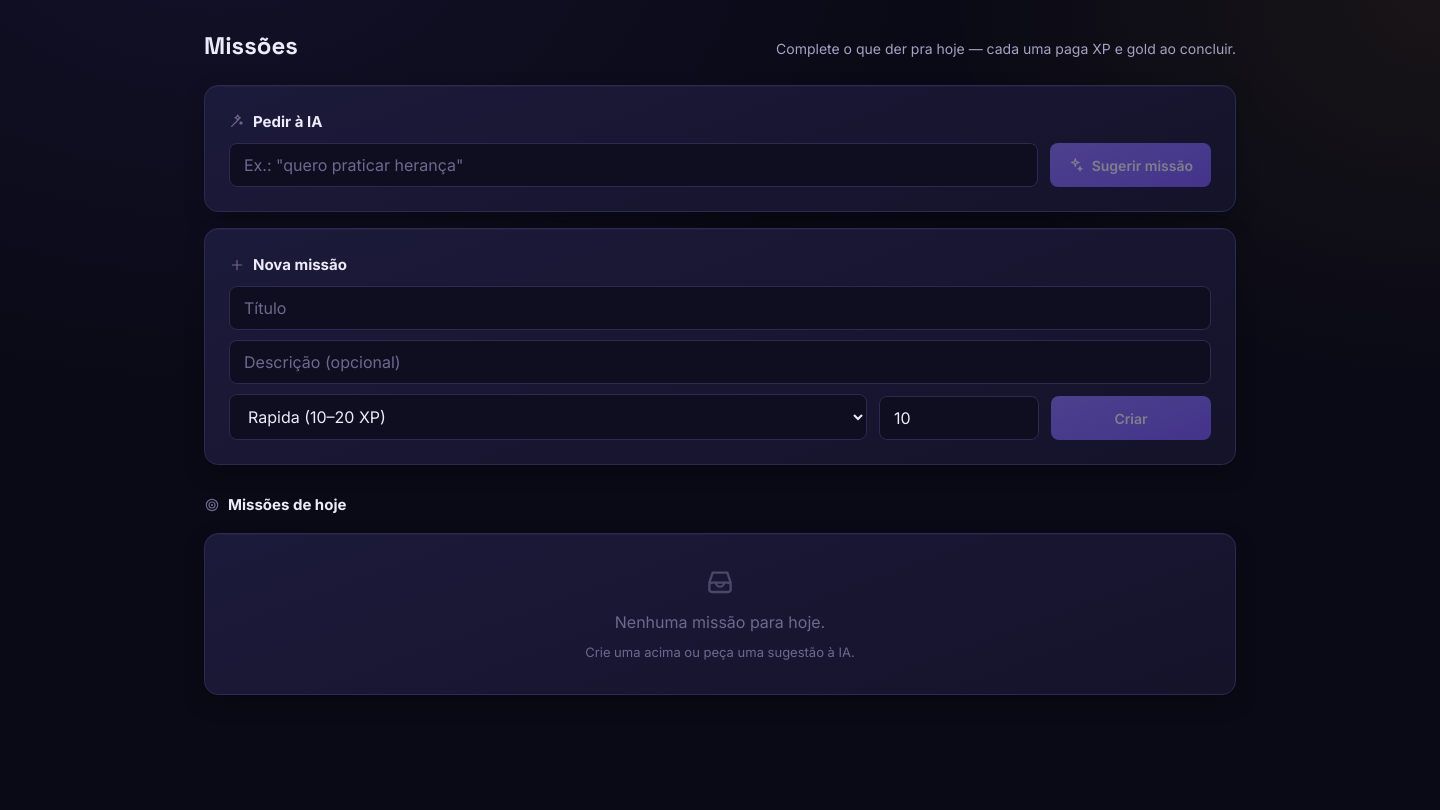
Test case: Missoes — criar missão manual (validação da faixa de XP, RN04) › cria a missão quando título preenchido e XP dentro da faixa
The width and height of the screenshot is (1440, 810).
Type "Ler capítulo 3" into the field with placeholder "Título".
click(720, 308); type("Ler capítulo 3")  # box [229,286,1211,330]
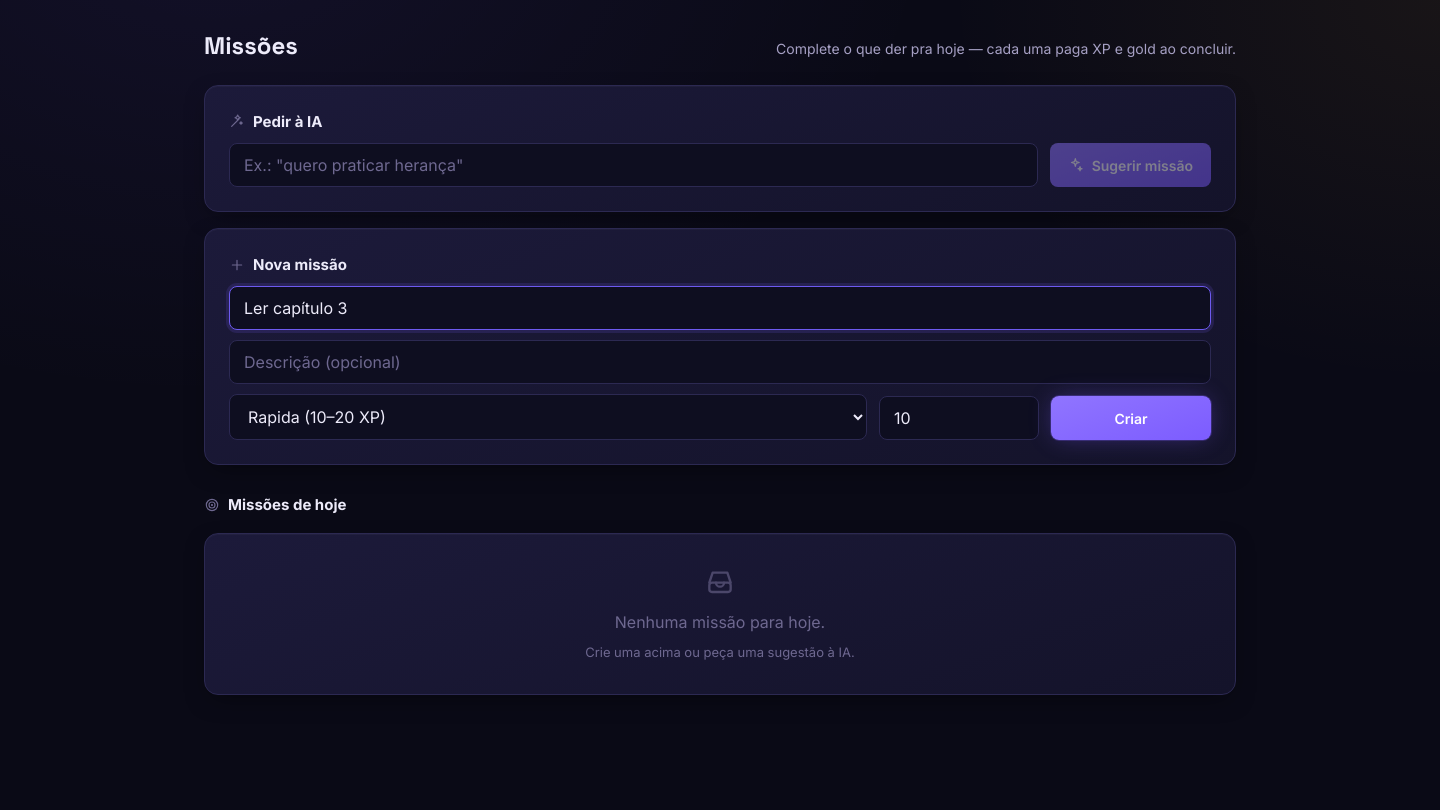
Click the button "Criar".
click(1131, 418)  # box [1051,396,1211,440]
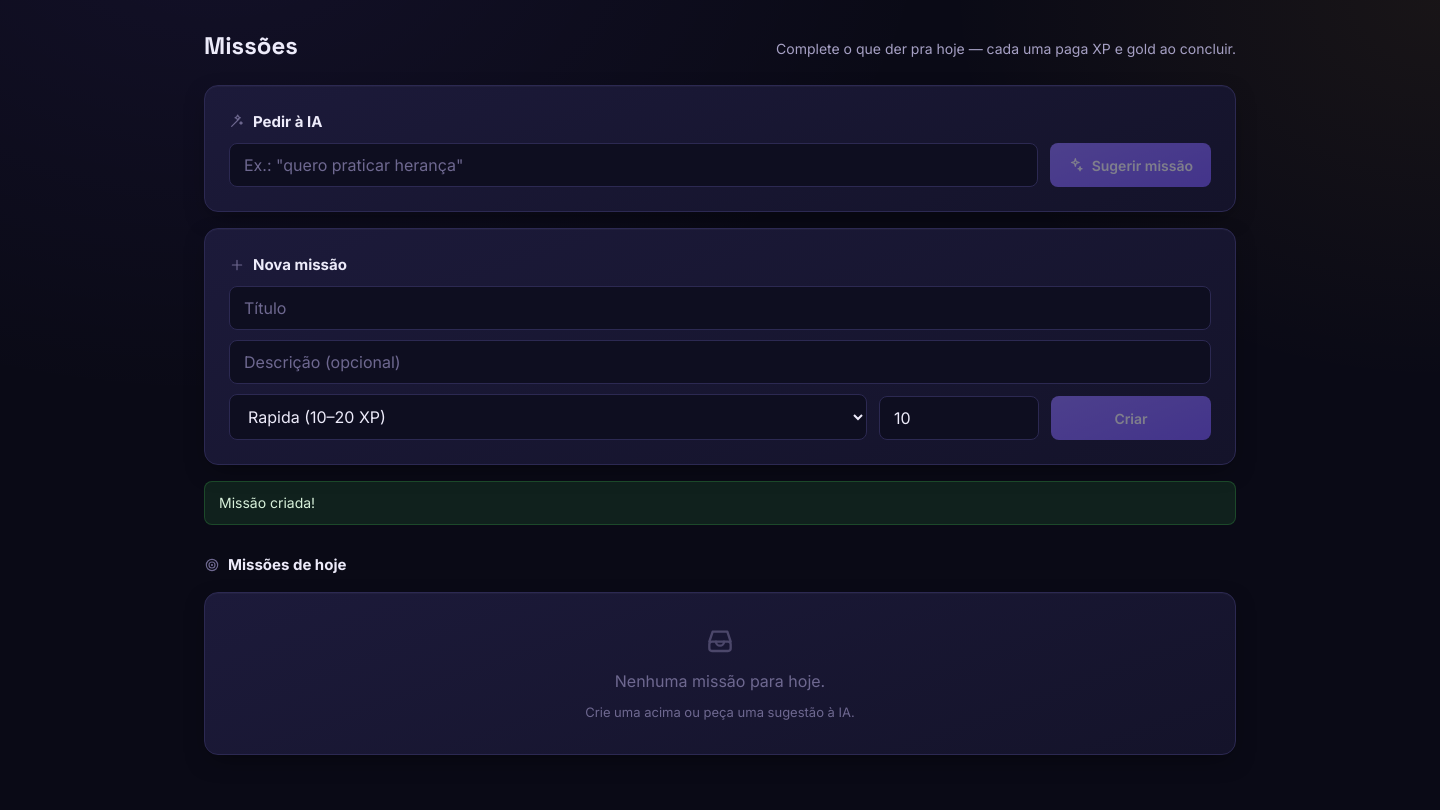
Check: the text "Missão criada!" is shown, box [204,481,1236,525]
